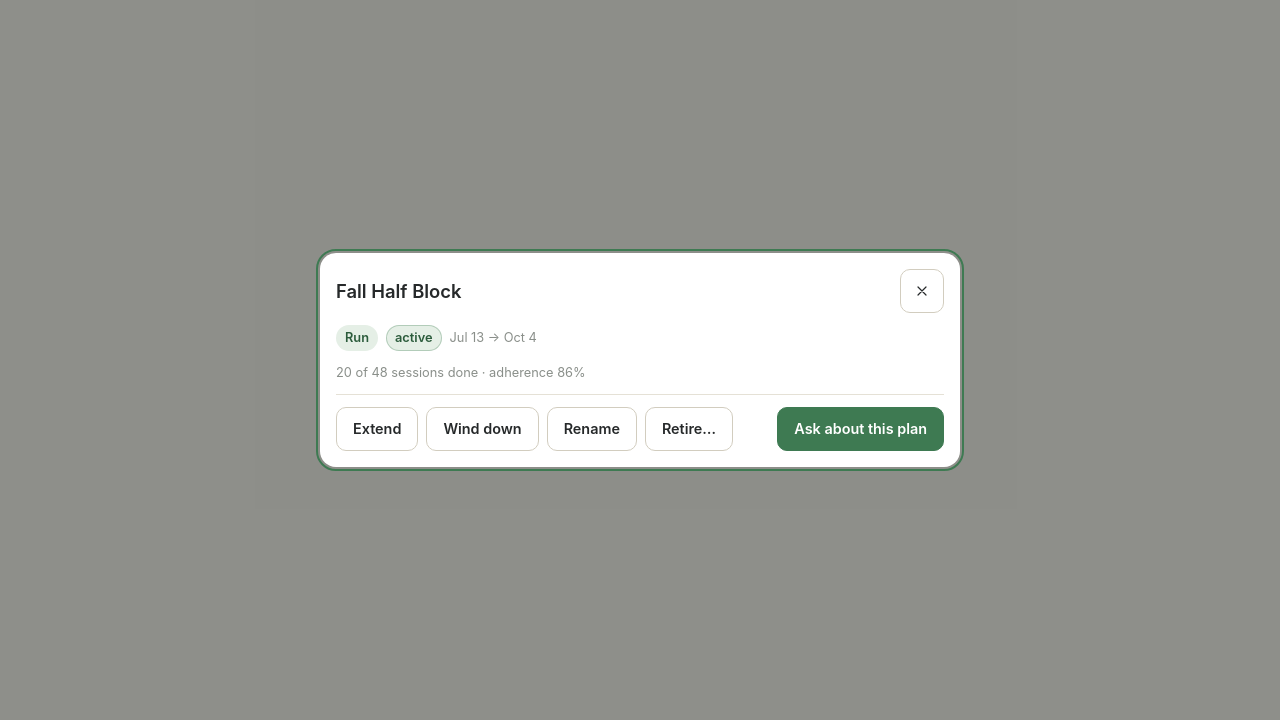
Test: the plan sheet's Extend and Wind down open the conversation with the request written › Retire… stays the app's own two-step confirm, with no coach
The width and height of the screenshot is (1280, 720).
Click the button "Retire…": (689, 429) left=645, top=407, right=733, bottom=451
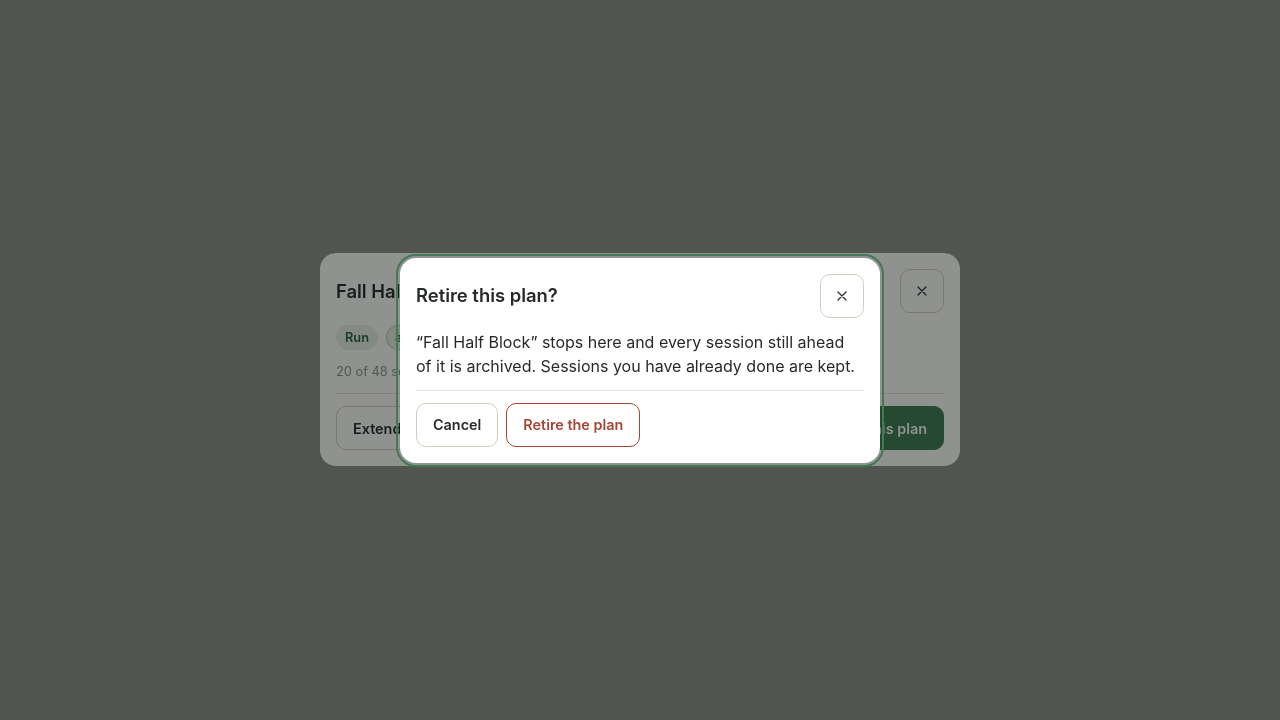
expect the text "Retire this plan?" is shown: met, box left=416, top=284, right=558, bottom=307
